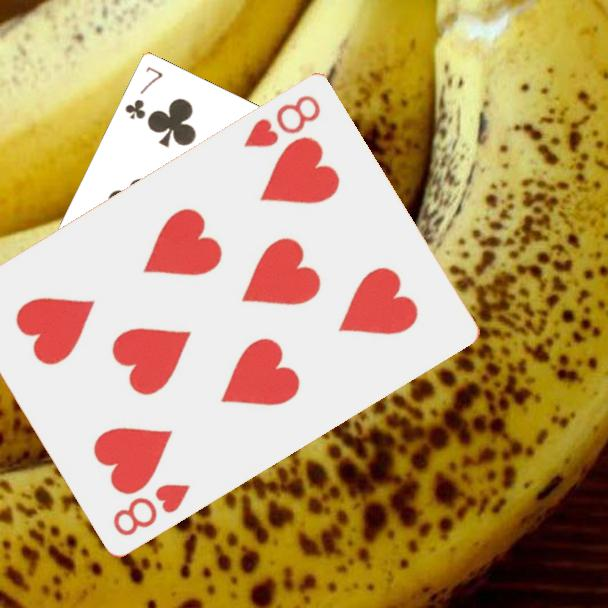c07: (121, 62, 166, 122)
h08: (240, 90, 324, 150), (109, 479, 193, 539)
